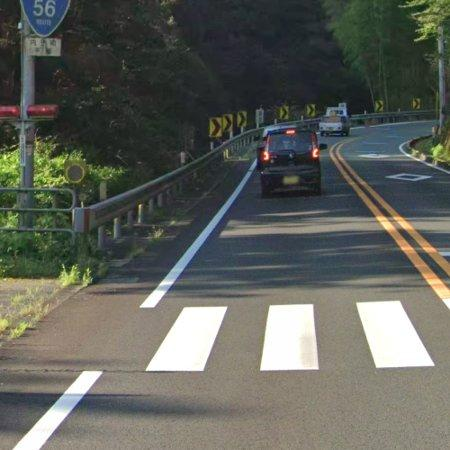crosswalks: (144, 298, 435, 372)
